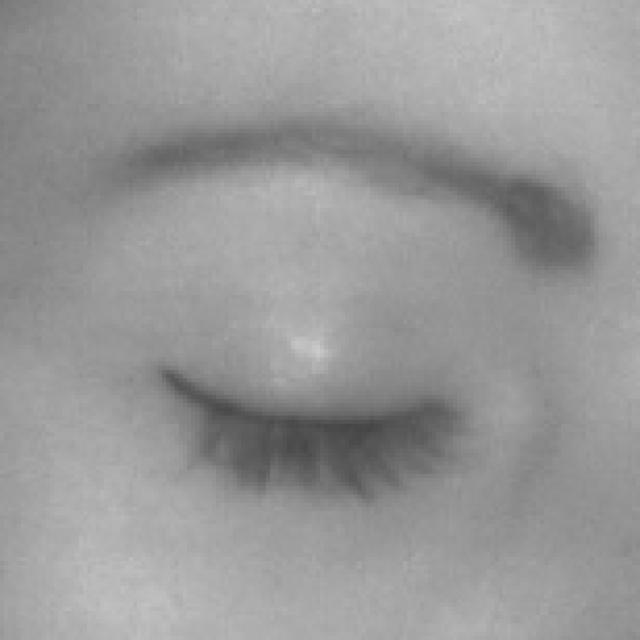close: (25, 76, 610, 592)
